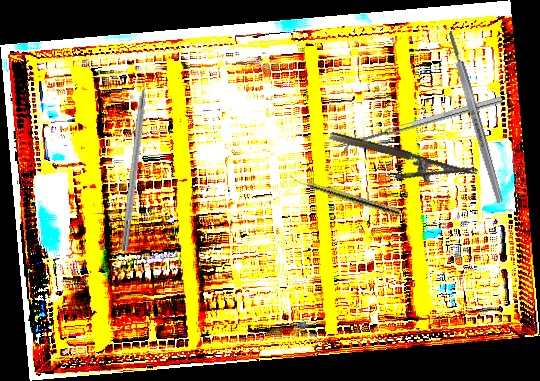Handpiece: (288, 174, 401, 217)
Hook Surgical: (119, 58, 154, 252)
Needle Holder: (323, 129, 479, 199)
Scalpel Handle: (445, 30, 505, 204)
Spatula Surgical: (340, 96, 505, 155)
